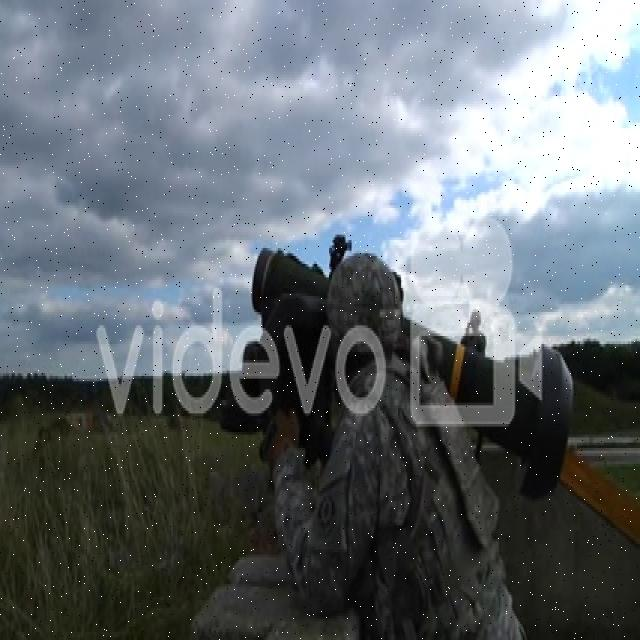bazooka: (248, 236, 579, 516)
